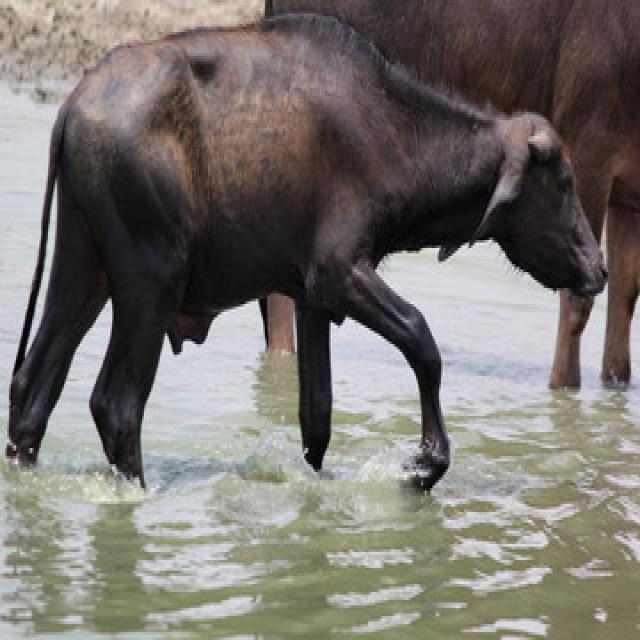Buffalo: (4, 8, 608, 493)
